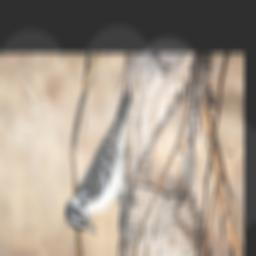Woodpecker: (64, 84, 142, 234)
